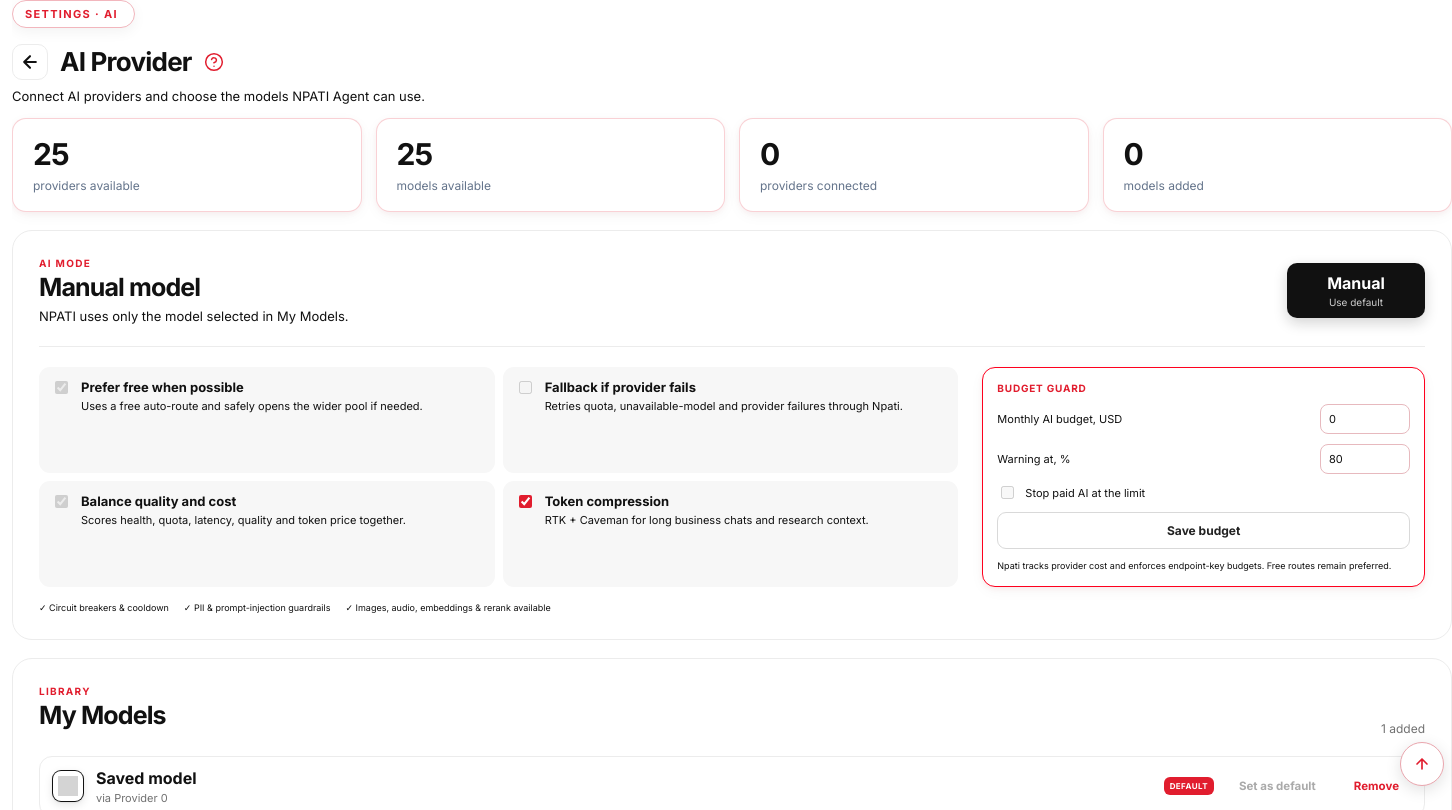
Test: shows the AI arrow at the third row and updates it after a responsive layout change
(page scrolled)
Click the button with class "marketplace-scroll-top" at {"x": 1422, "y": 764}, box x1=1400 y1=742 x2=1444 y2=786
(page scrolled)
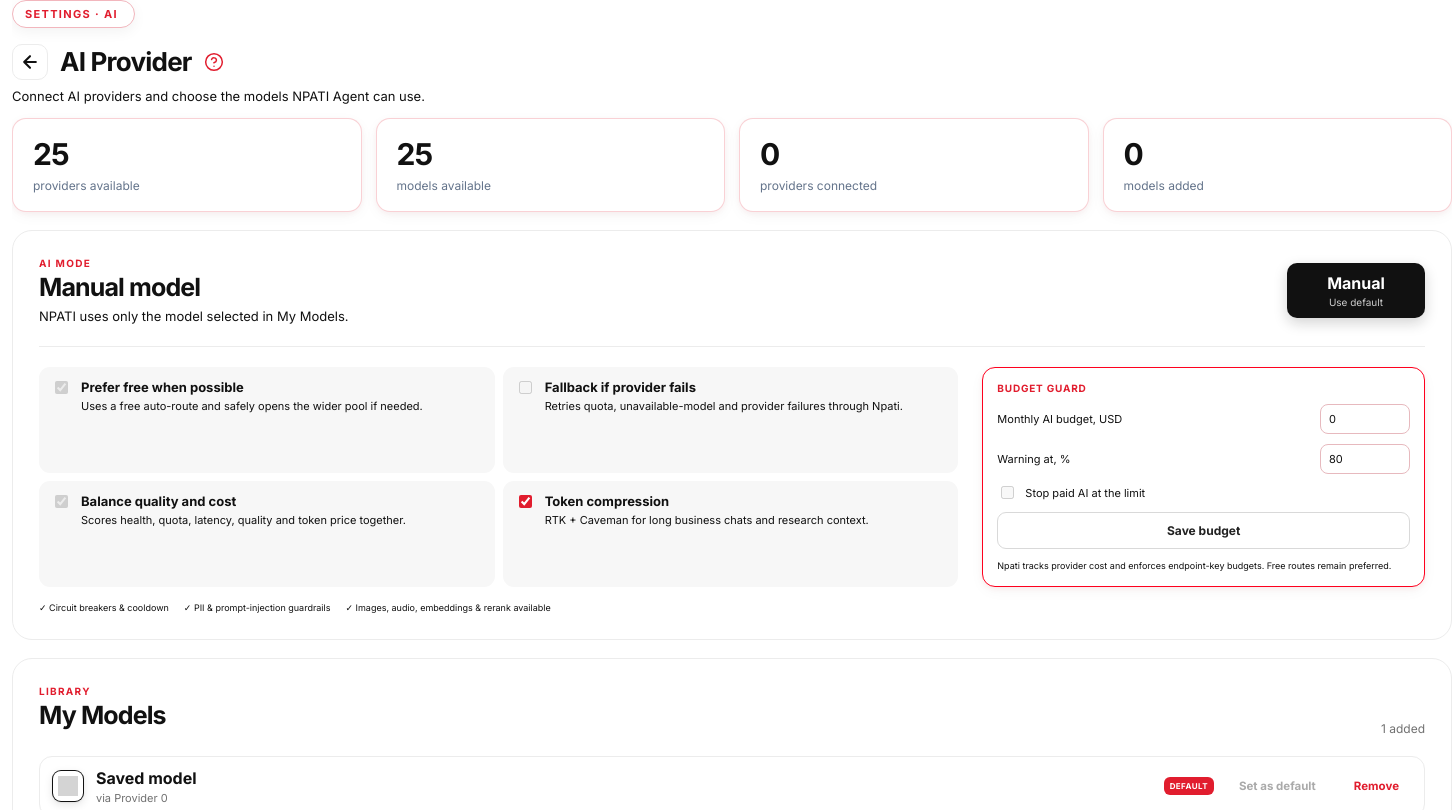
Now the button with class "marketplace-scroll-top" is gone
